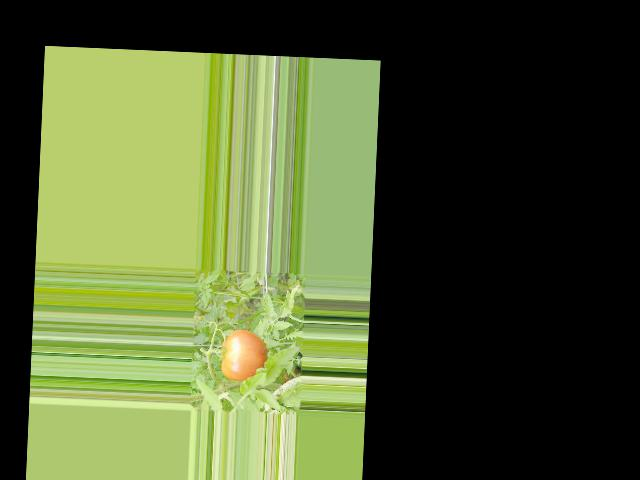tomato: (220, 329, 267, 381)
